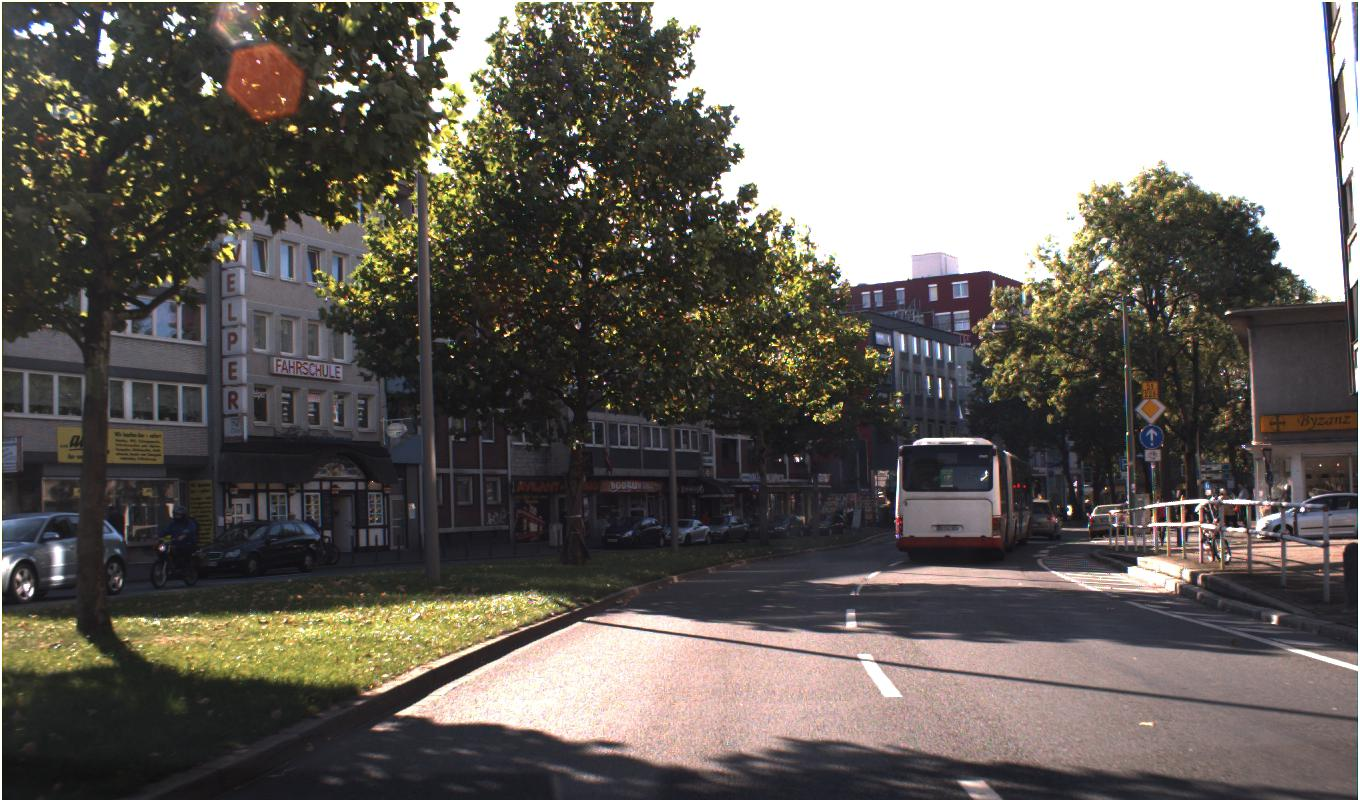mandatory: (1138, 424, 1163, 450)
sign: (1133, 393, 1164, 424)
